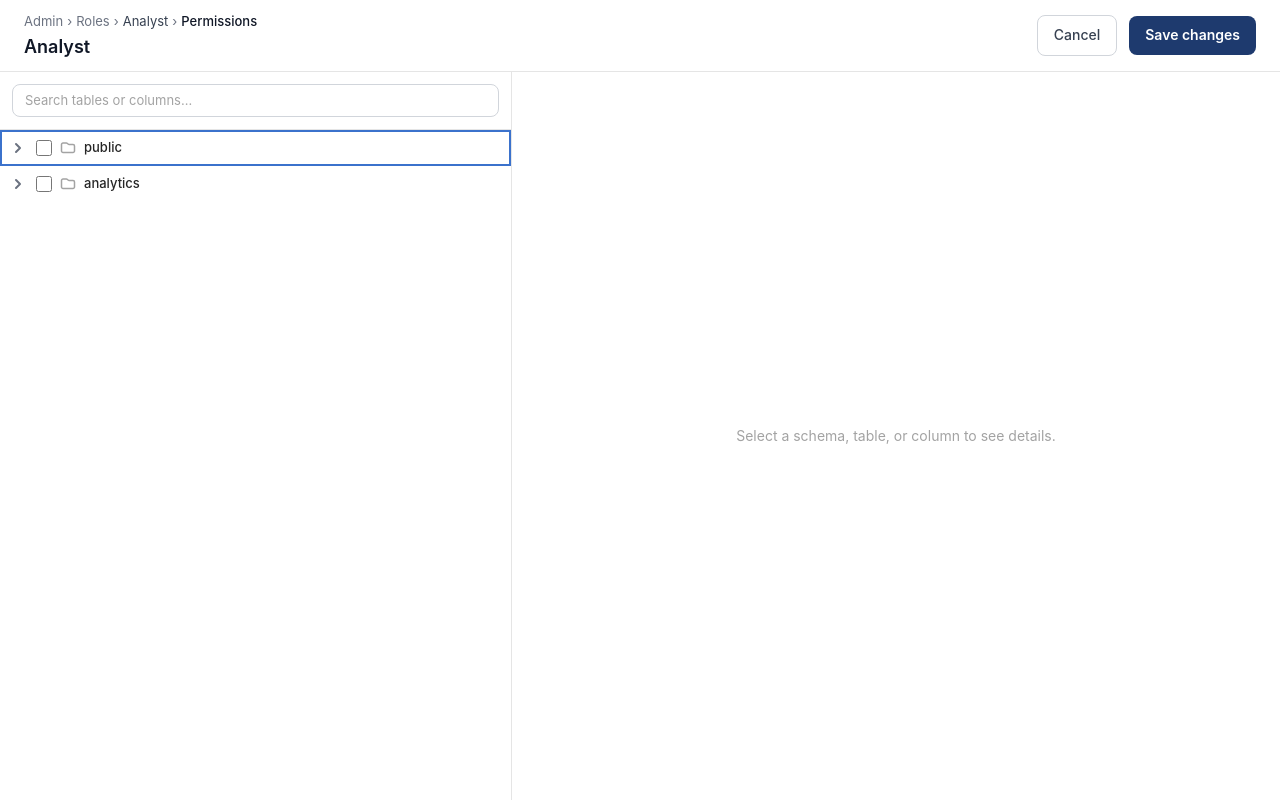
Test: PermissionEditorPage › schema tree › expands a schema to show tables when clicked
Expected: the text "public" is shown, [84, 139, 122, 155]
Expected: the list item "public" is shown, [0, 130, 511, 166]
Click the button named "Expand" next to "public" at [18, 148], box [8, 138, 28, 158]
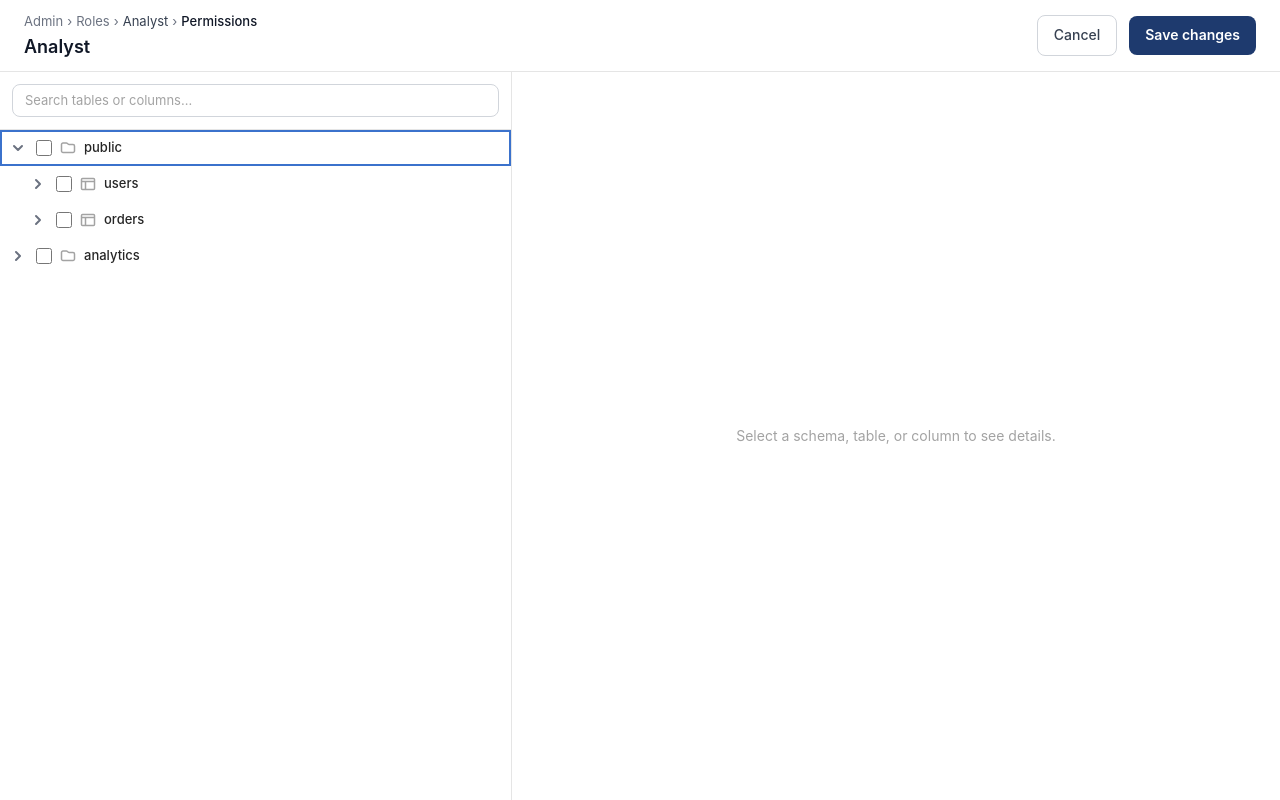
Expected: the text "users" is shown, [104, 175, 138, 191]
Expected: the text "orders" is shown, [104, 211, 144, 227]
